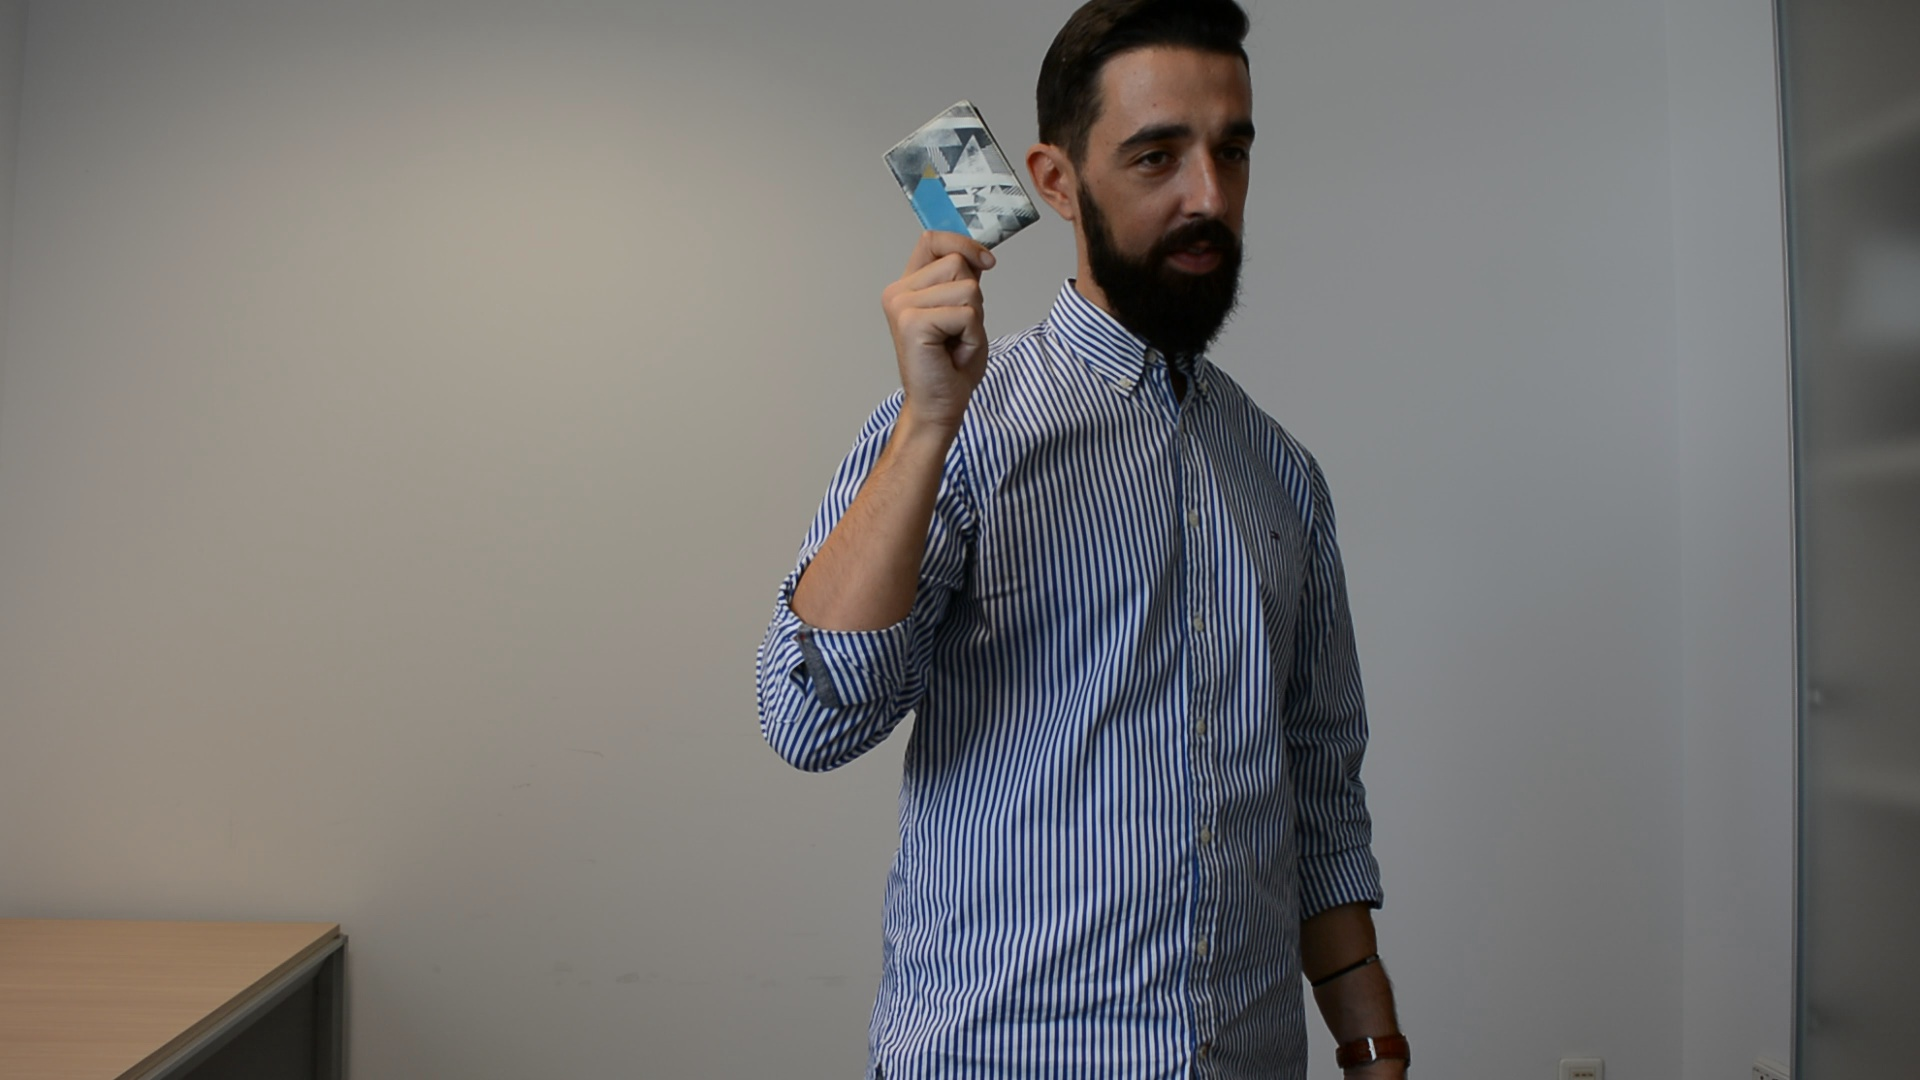monedero: (874, 98, 1046, 257)
